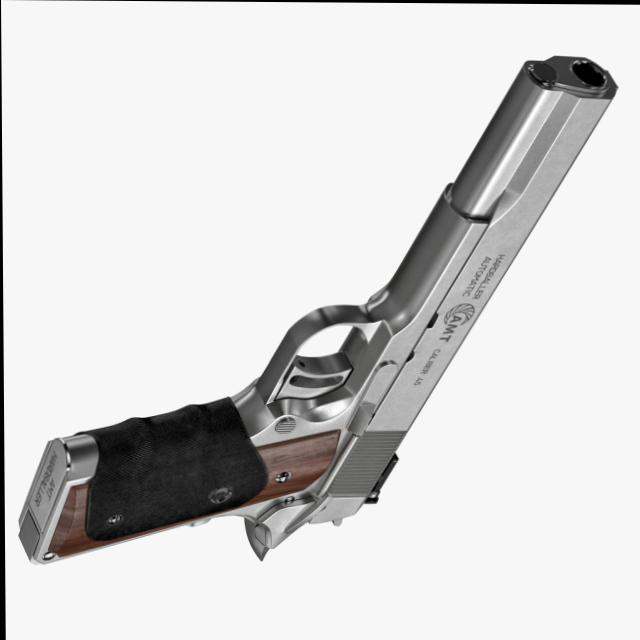handgun: (14, 53, 618, 567)
